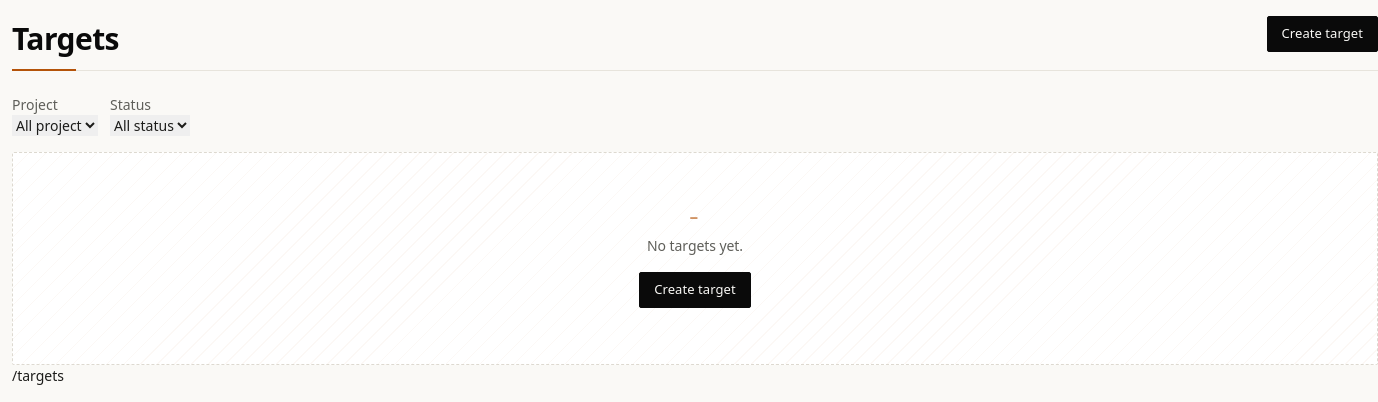
Test: TargetsList › shows the empty state with a Create target action that navigates to /targets/new
Expected: the text "No targets yet." is shown, [647,209,743,256]
Click the button "Create target" at (695, 290), box [639,272,751,308]
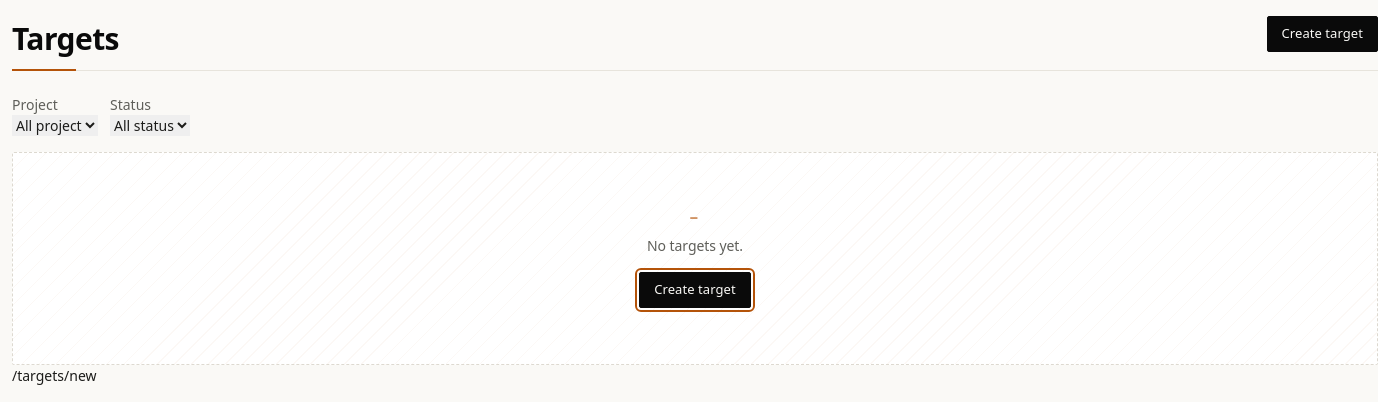
Result: the text with test id "loc" reads "/targets/new" at [12,366,96,385]
